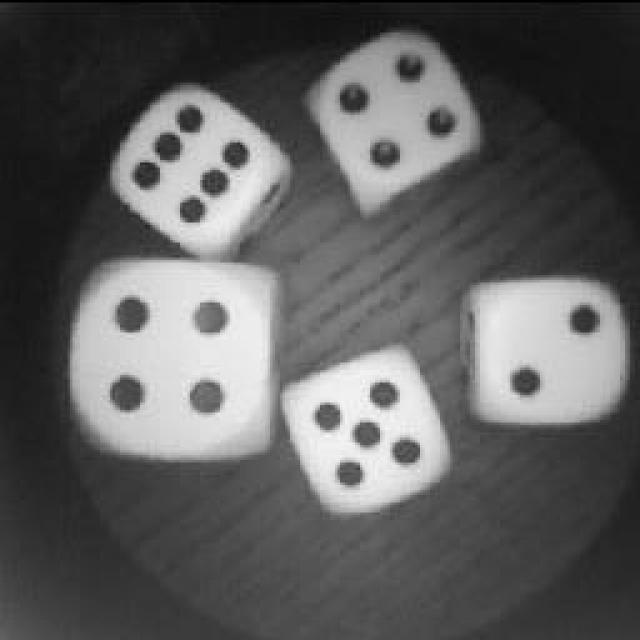dice_2: (458, 267, 632, 435)
dice_4: (65, 252, 287, 470), (305, 28, 490, 210)
dice_5: (275, 345, 453, 515)
dice_6: (100, 78, 288, 262)
